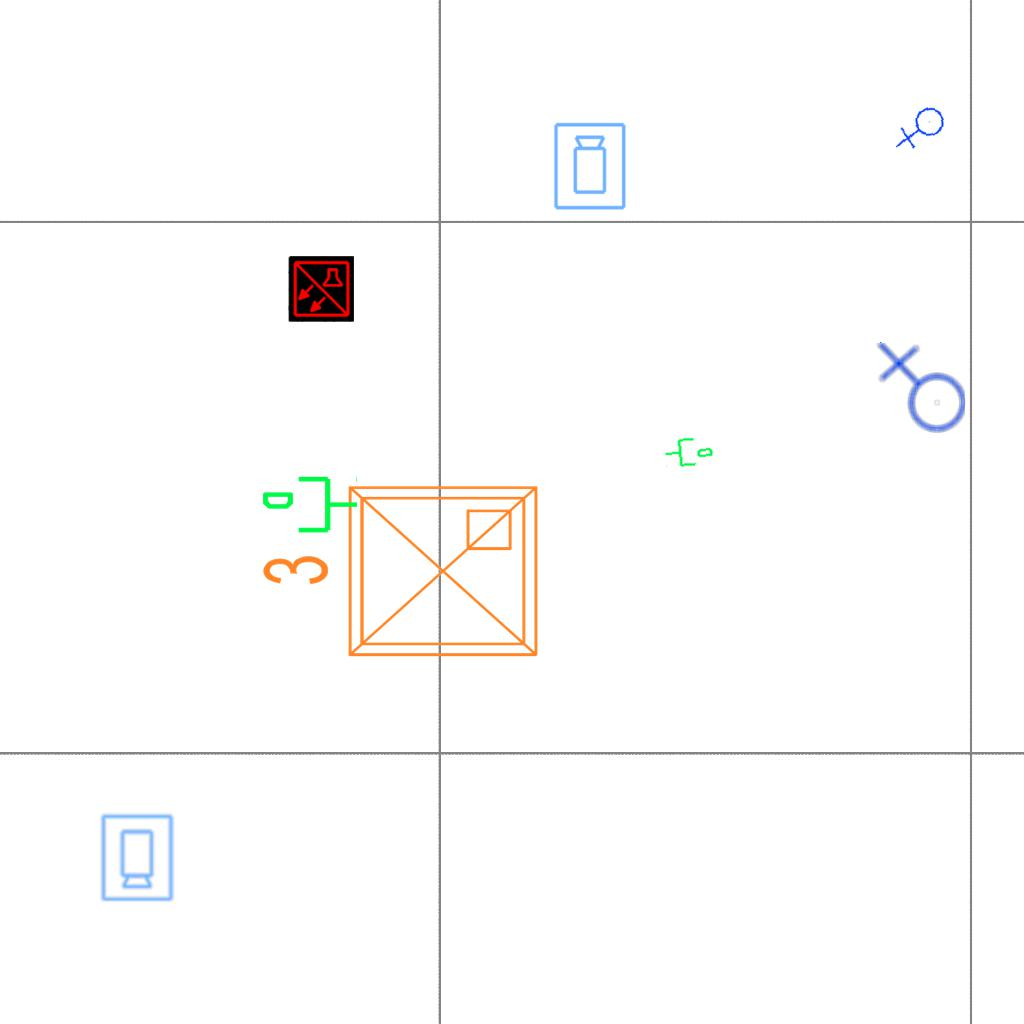Datenanschluss_einfach: (260, 472, 360, 541), (662, 431, 716, 471)
Einbaudownlights_LED_Konferenzraeume: (252, 471, 552, 679)
Elektroanschluss_allgemein_230V_Geraeteanschlussdose_230V: (873, 341, 967, 440), (894, 102, 951, 157)
KFO_Kamera_mit_Festobjektiv: (98, 812, 175, 903), (552, 121, 629, 212)
OKW_Multisensormelder_(Kombination_optischer_Rauch-Kahlenmonoxid_Waerme-Melder): (288, 256, 354, 322)
